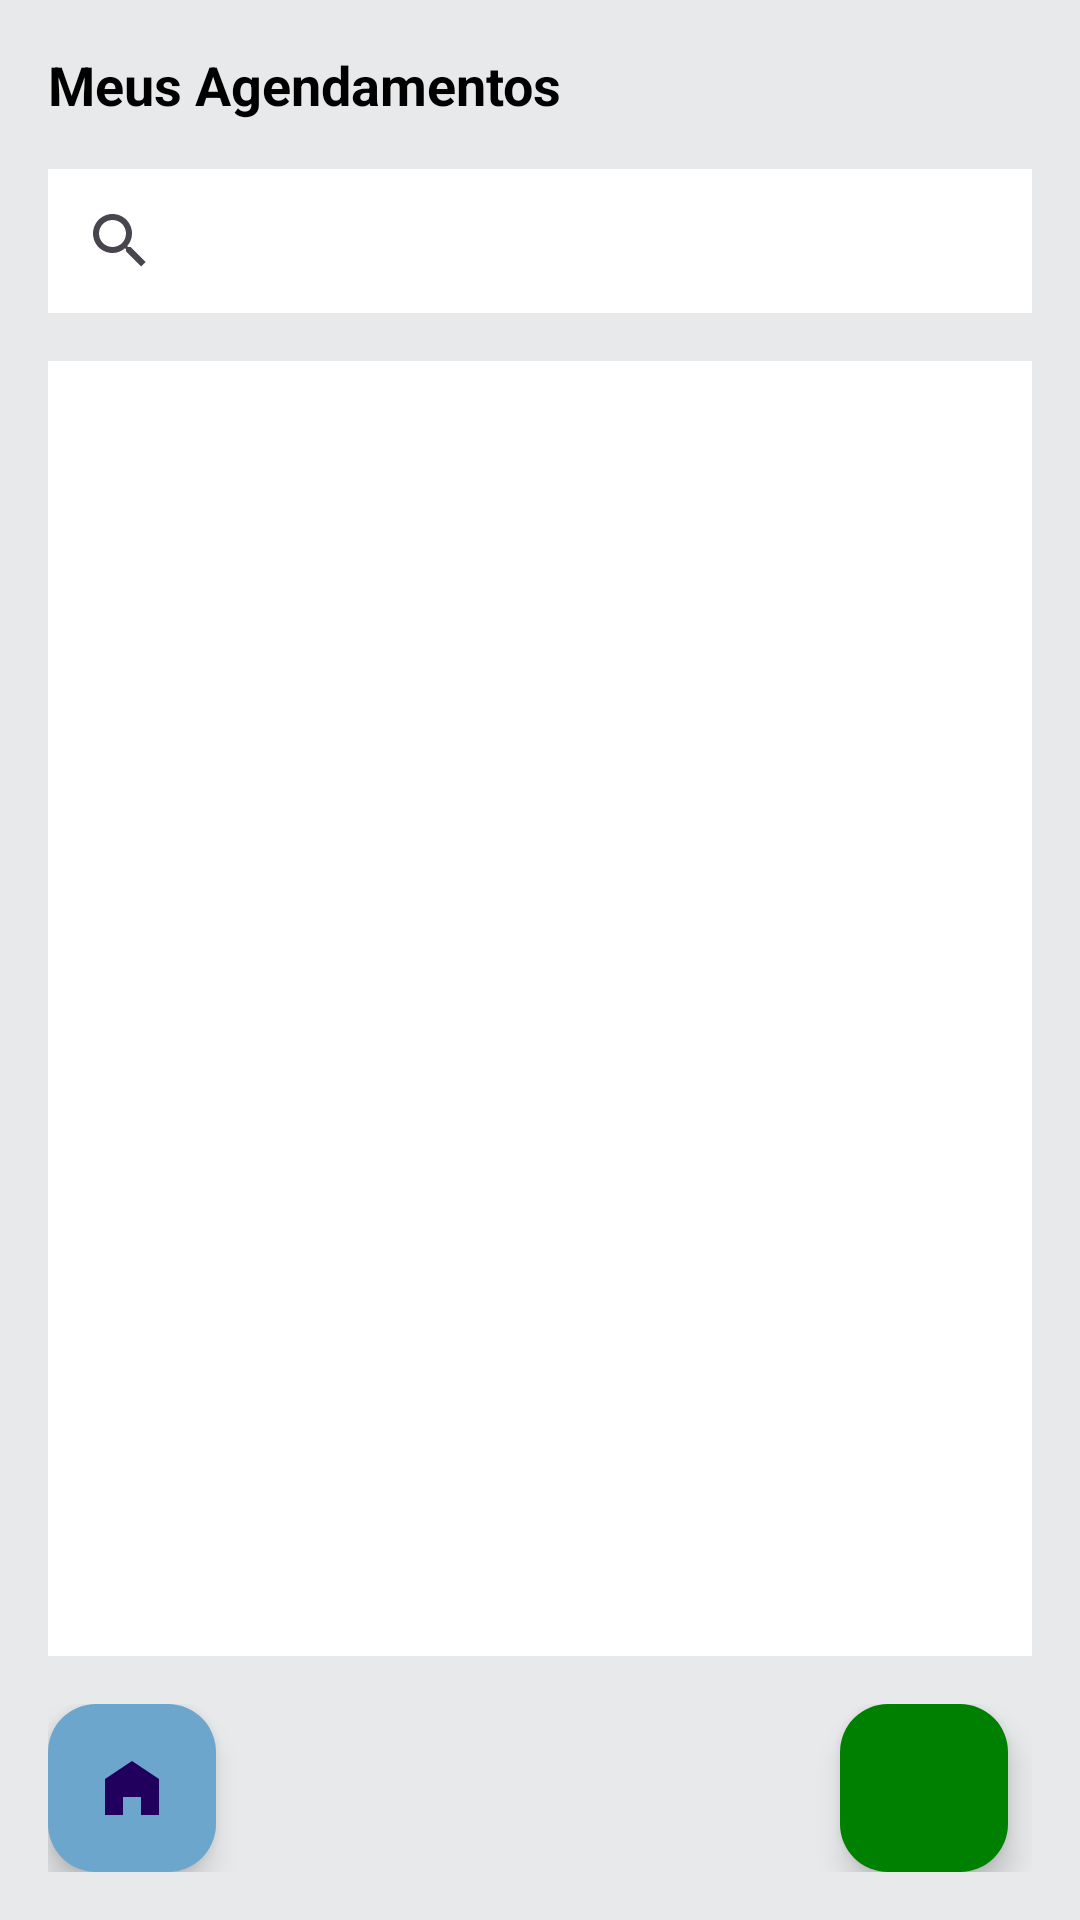

Icons on this 1080px×1920px Android screen, each with its box as (x1, y1, x2, y2):
home: (48, 1704, 216, 1872)
